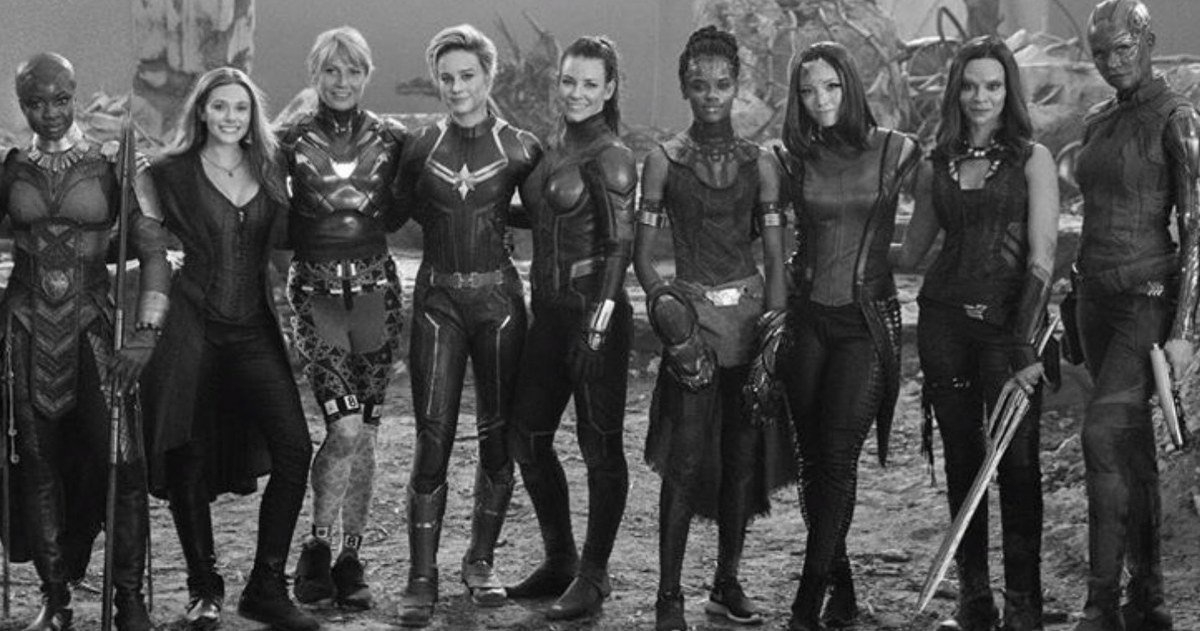bad: (425, 53, 487, 115), (953, 72, 1005, 124), (314, 55, 366, 107), (688, 72, 740, 124), (204, 90, 256, 141), (798, 72, 849, 124), (556, 67, 607, 118)
